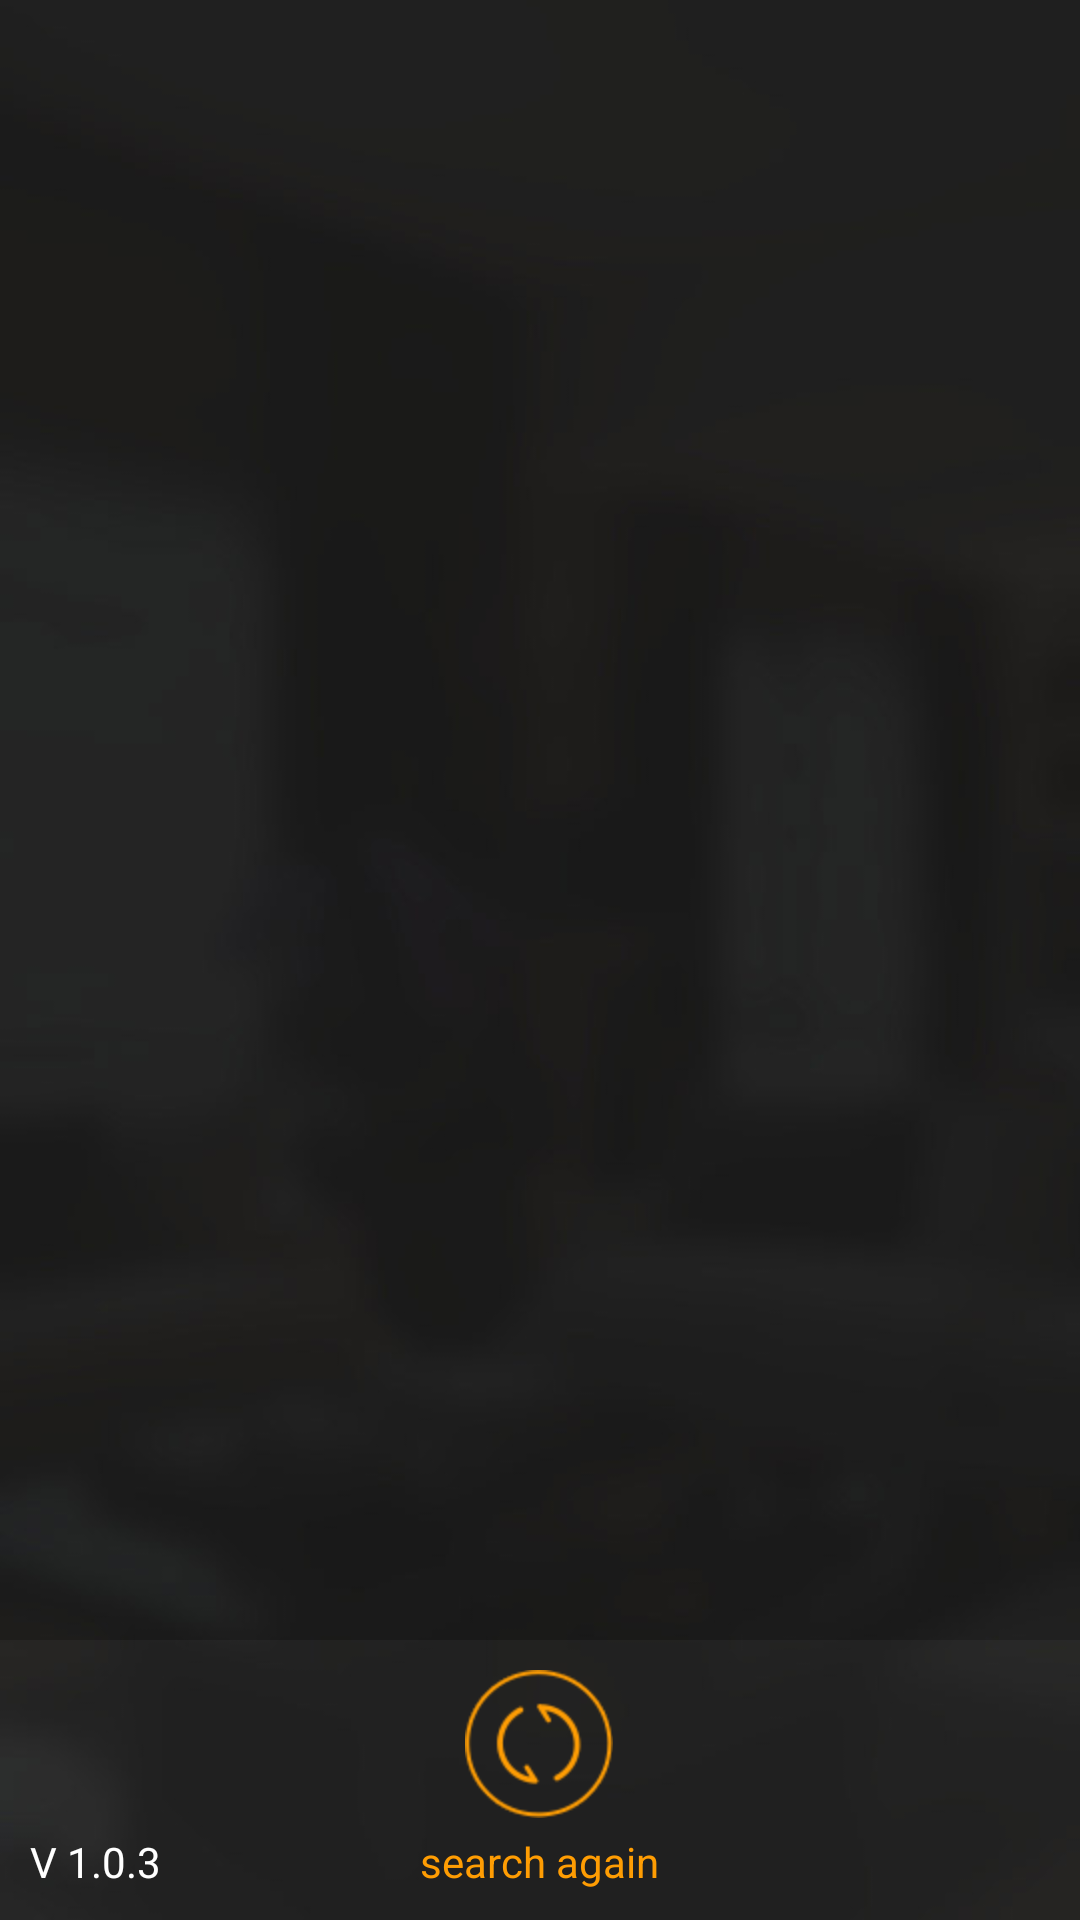

Named icons in this screenshot (1080×1920) and their bounding boxes, (x1, y1, x2, y2):
reloadbtn: (465, 1670, 613, 1818)
